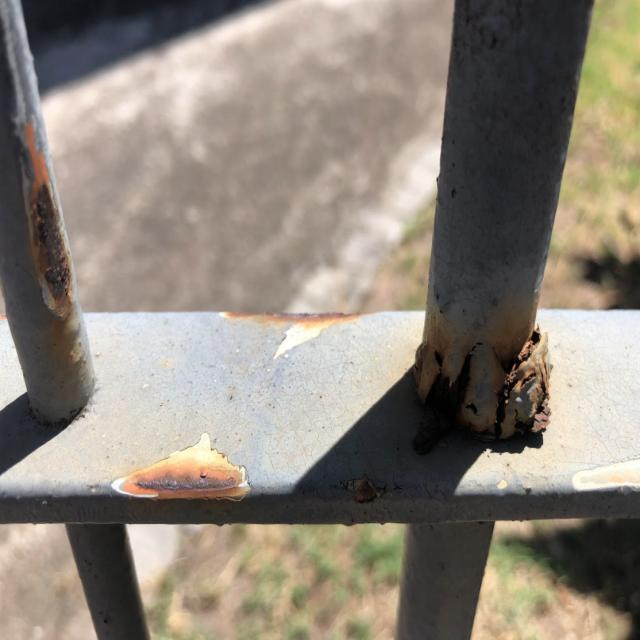Corrosion: (408, 300, 557, 454), (25, 141, 75, 325), (116, 440, 246, 503), (221, 312, 376, 328), (348, 474, 384, 510)
